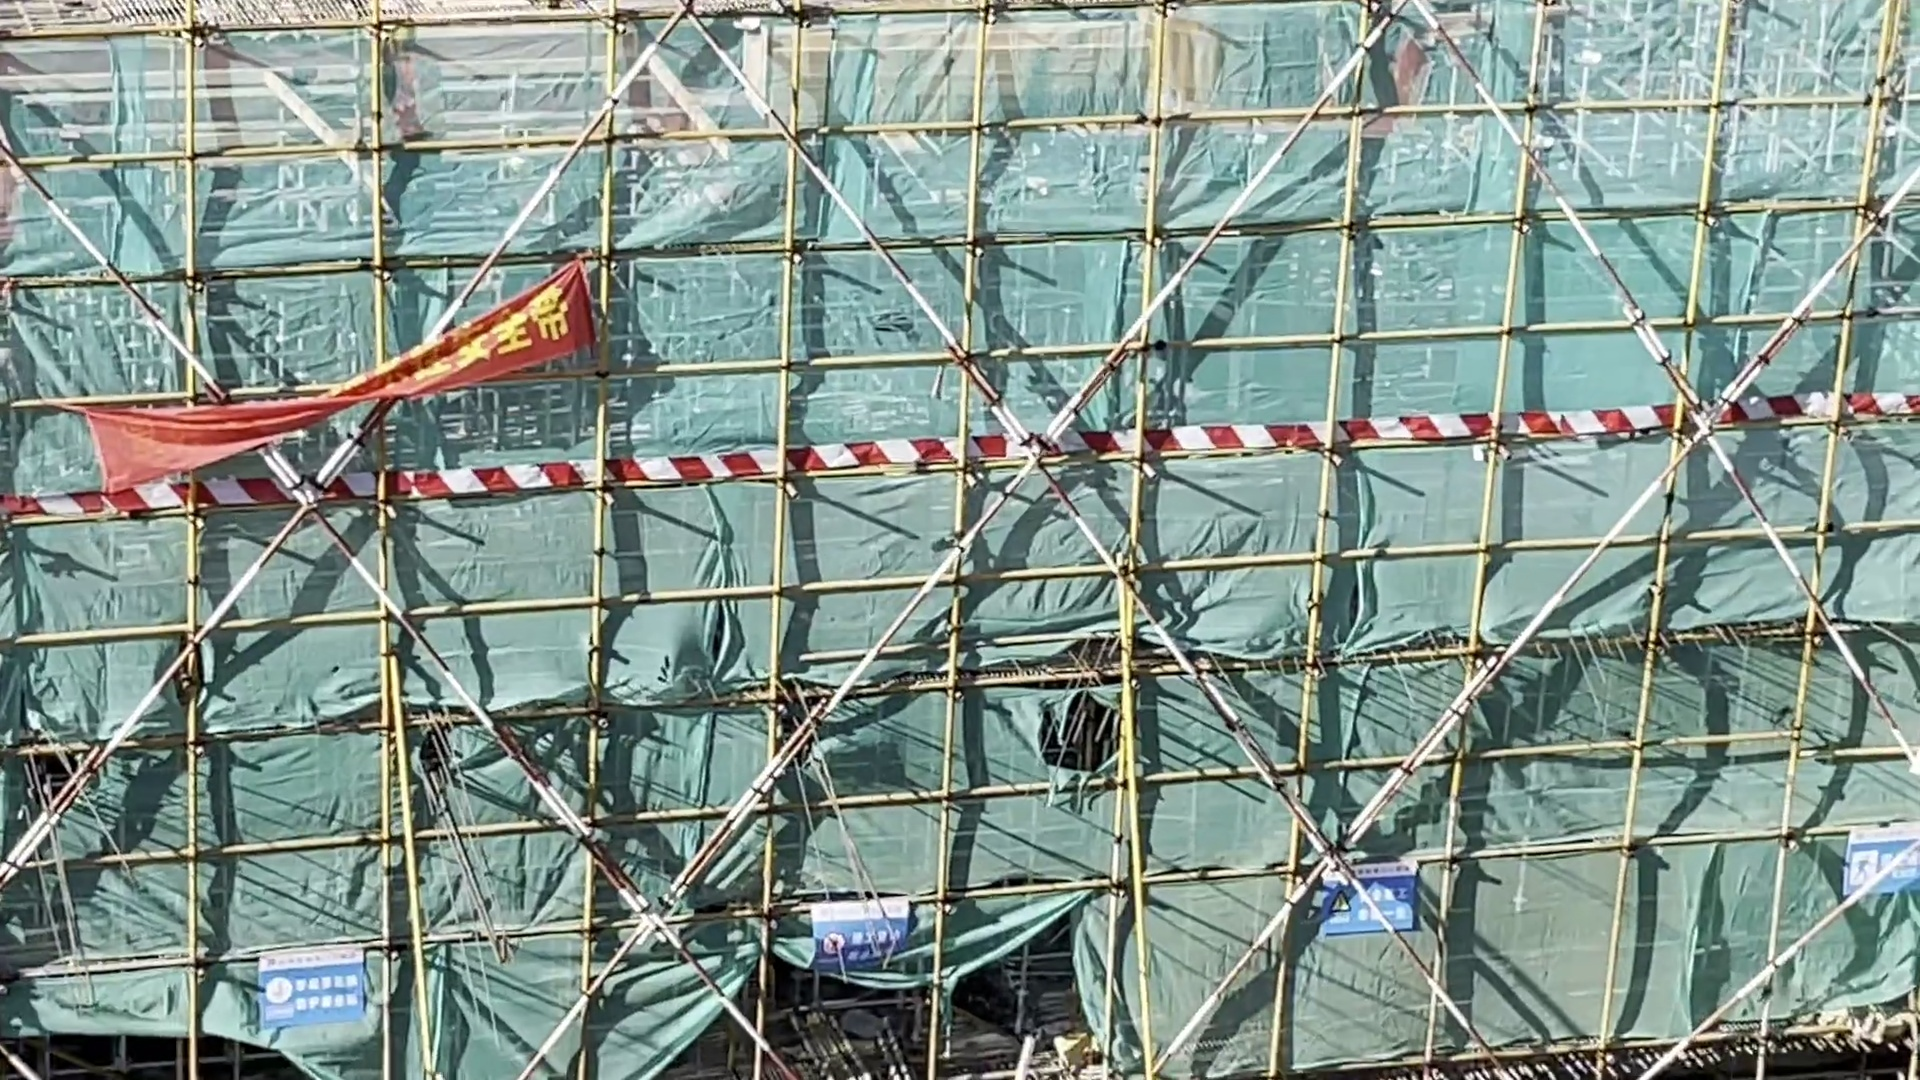slogan: (73, 245, 621, 498), (243, 924, 392, 1042), (1317, 839, 1425, 956), (808, 887, 911, 982), (1826, 810, 1920, 905)
